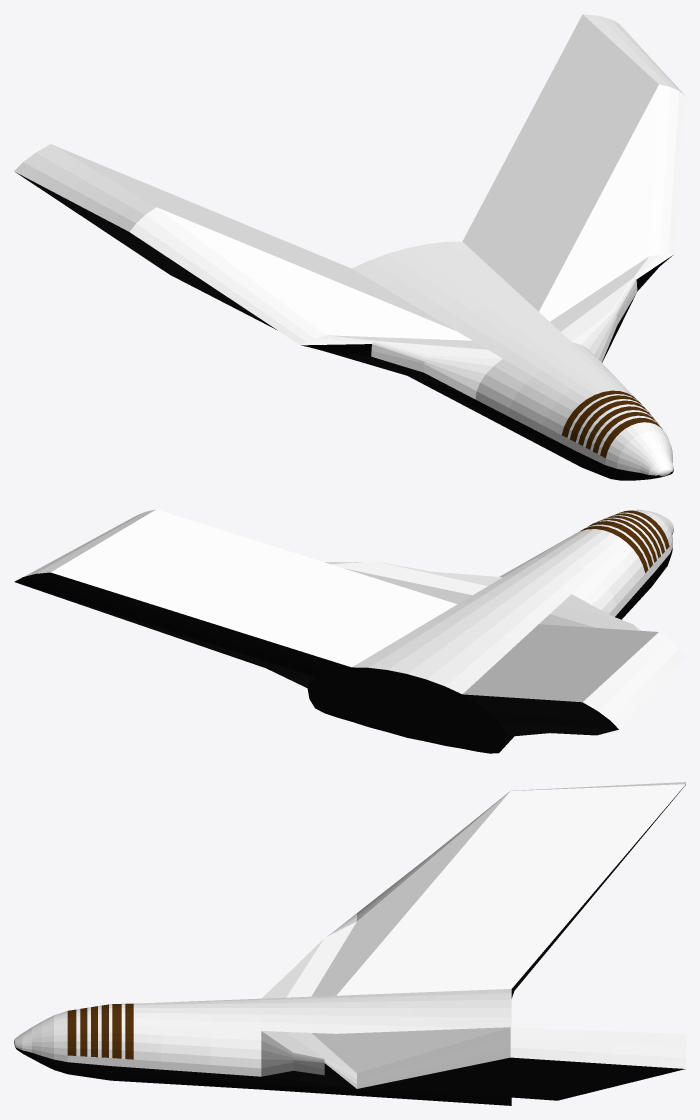
3 views of the same model, one above another, from view 1: azimuth 30°, elevation 25°; view 2: azimuth 150°, elevation 25°; view 3: azimuth 270°, elevation 25° (orthographic). The views are drawn at different scales.
Parts seen in each view (by area): view 1: Cylinder; view 2: Cylinder; view 3: Cylinder.
Boxes of the visible parts, bbox=[...] form: Cylinder: bbox=[14, 14, 685, 480]; Cylinder: bbox=[14, 509, 685, 753]; Cylinder: bbox=[14, 782, 685, 1105].
Size of the model in its own units: 1544 by 406 by 1542.
